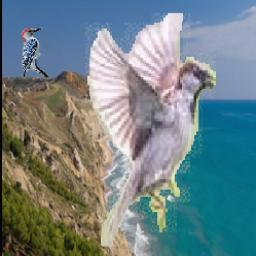Sparrow: (86, 14, 217, 248)
Woodpecker: (19, 25, 51, 82)
